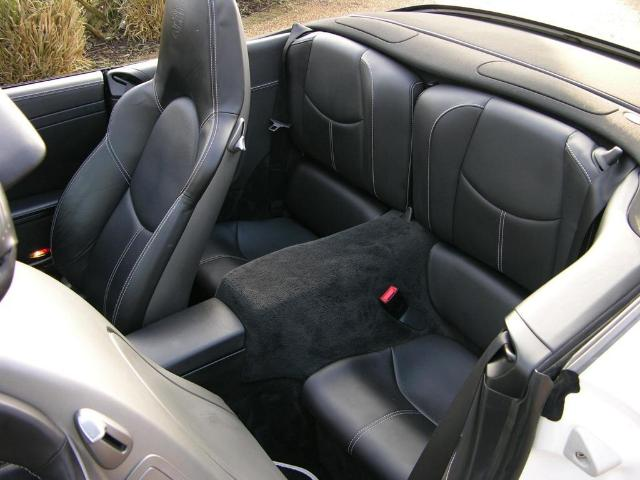Seatbelt: (404, 335, 512, 479), (264, 17, 310, 219)
